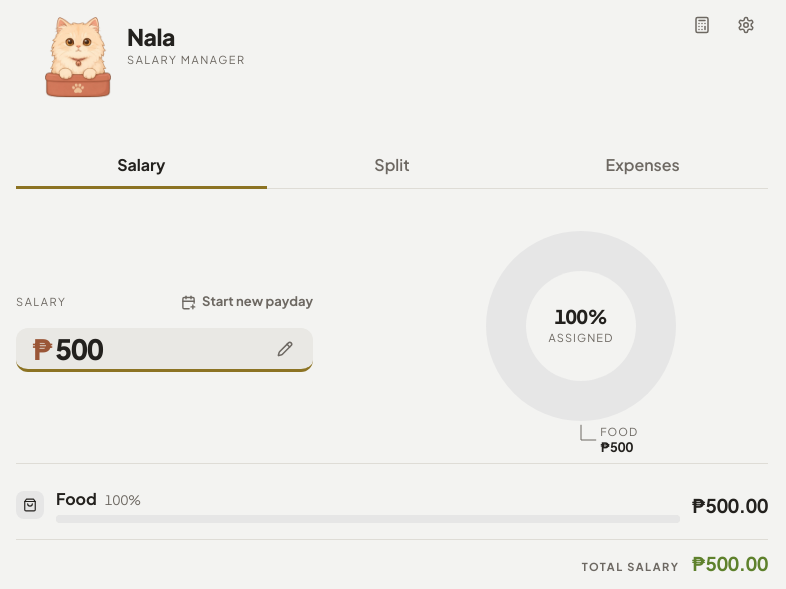
it: expense tracking in App › shows salary, cranberry spent, and green available
Step 1. Click the tab "Expenses" → (643, 167), box [517,145,768,189]
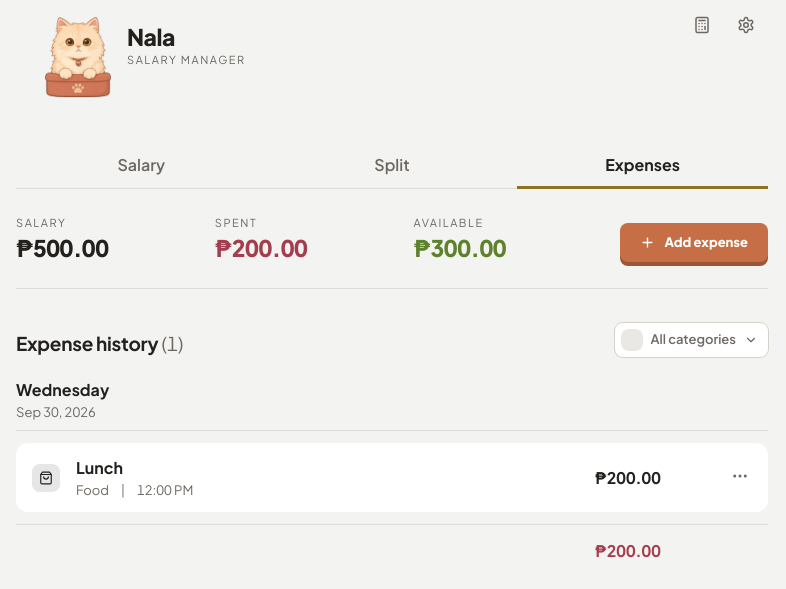
Result: the text "Lunch" is shown at [76,457,123,478]
Result: the text "₱200.00" below "Spent" is shown at [215,233,307,262]
Result: the text "₱300.00" is shown at [414,233,506,262]
